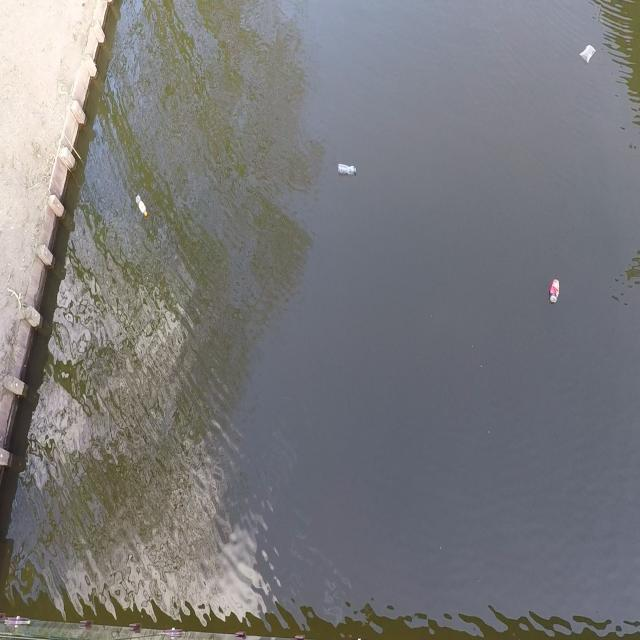Autre plastique: (579, 37, 598, 66)
Bouteille plastique: (132, 191, 153, 222), (337, 159, 362, 185)
Non plastique: (546, 272, 566, 312)
